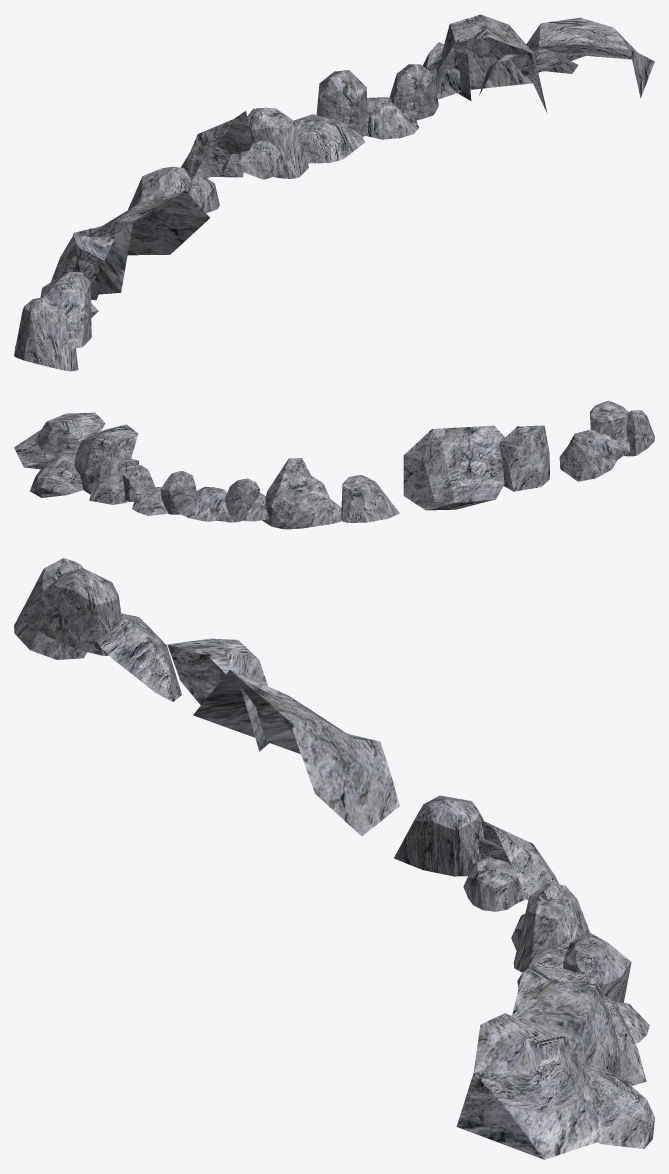
File: des_rockgp2_23.obj
3 views of the same model, one above another, from view 1: azimuth 30°, elevation 25°; view 2: azimuth 150°, elevation 25°; view 3: azimuth 270°, elevation 25° (orthographic). The views are drawn at different scales.
Parts seen in each view (by area): view 1: des_rockgp2_23; view 2: des_rockgp2_23; view 3: des_rockgp2_23.
Boxes of the visible parts, left/top/right/bottom form: des_rockgp2_23: left=14, top=14, right=654, bottom=371; des_rockgp2_23: left=14, top=400, right=654, bottom=529; des_rockgp2_23: left=14, top=558, right=654, bottom=1159.
Size of the model in its own units: 143 by 24.01 by 80.59.
Materials: 2 (2 with a texture image).
